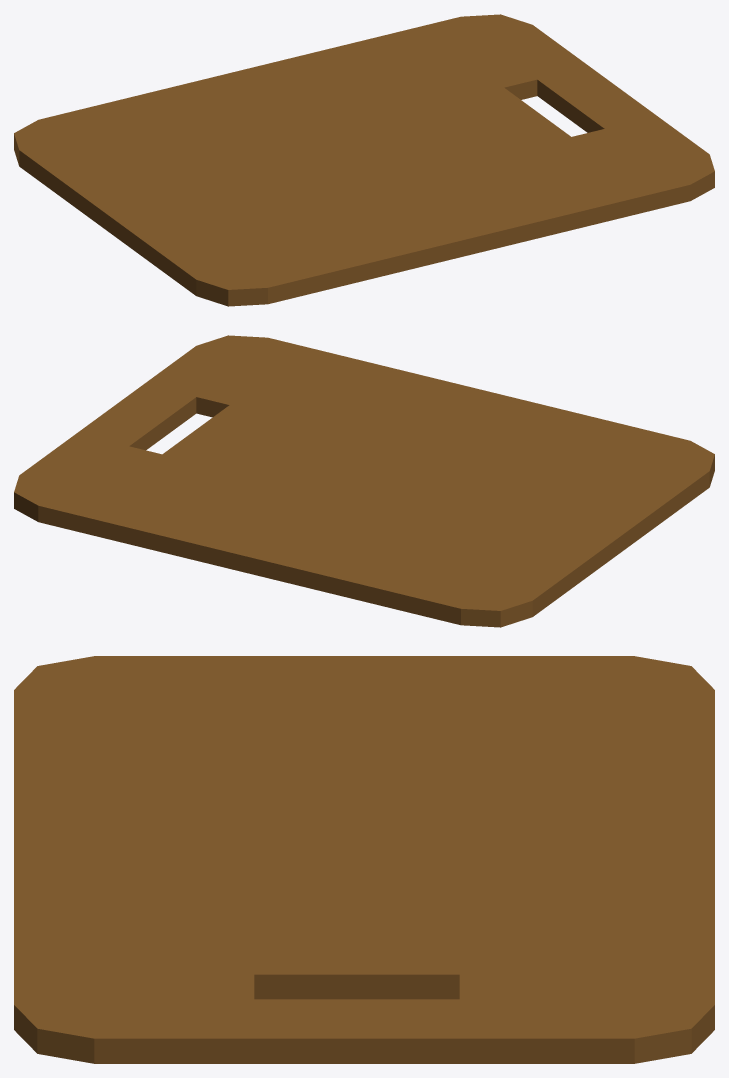
Rendered from Chopping Board.fbx.
The picture shows the model from 3 angles, top to bottom: view 1: azimuth 30°, elevation 25°; view 2: azimuth 150°, elevation 25°; view 3: azimuth 270°, elevation 25°; orthographic projection. The views are drawn at different scales.
Parts seen in each view (by area): view 1: Chopping Board; view 2: Chopping Board; view 3: Chopping Board.
Boxes of the visible parts, bbox=[...] form: Chopping Board: bbox=[14, 14, 714, 306]; Chopping Board: bbox=[14, 335, 714, 627]; Chopping Board: bbox=[14, 656, 714, 1063].
Size of the model in its own units: 0.3098 by 0.00952 by 0.2399.
